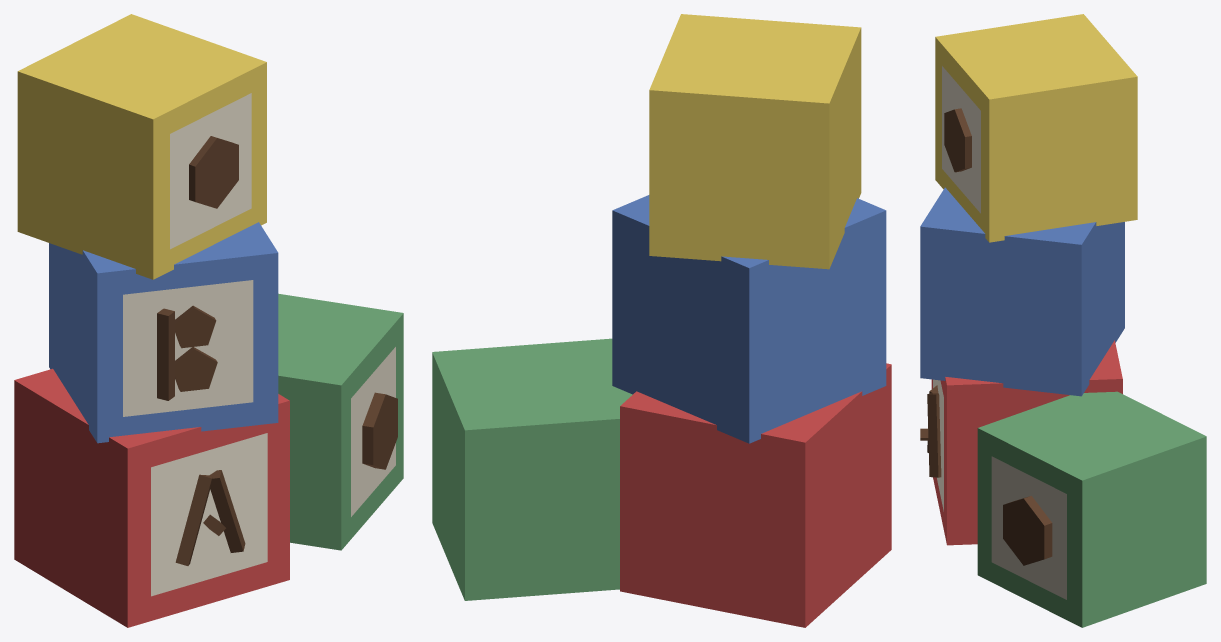
File: bloques_letras.glb
The picture shows the model from 3 angles, left to right: view 1: azimuth 30°, elevation 25°; view 2: azimuth 150°, elevation 25°; view 3: azimuth 270°, elevation 25°; orthographic projection. The views are drawn at different scales.
Parts seen in each view (by area): view 1: bloques_letras; view 2: bloques_letras; view 3: bloques_letras.
Boxes of the visible parts, <box> form: bloques_letras: <box>14,14,403,627</box>; bloques_letras: <box>432,14,891,627</box>; bloques_letras: <box>920,14,1206,627</box>.
Size of the model in its own units: 0.8544 by 1.06 by 0.617.
